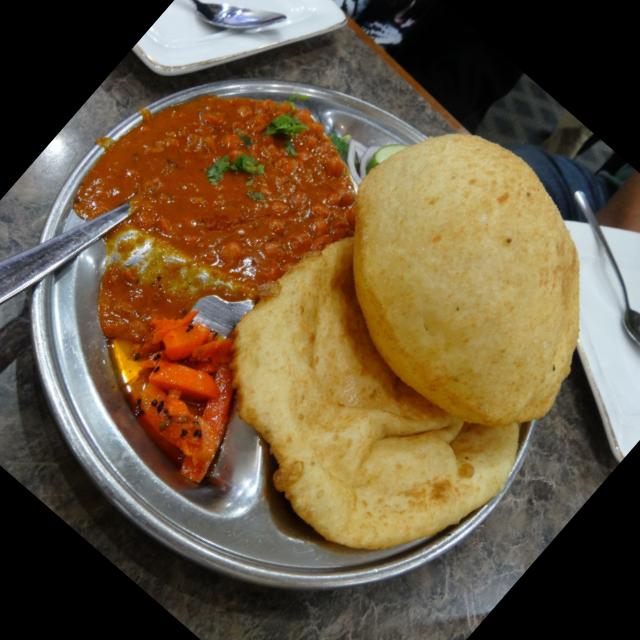Bhatura: (181, 89, 640, 590)
